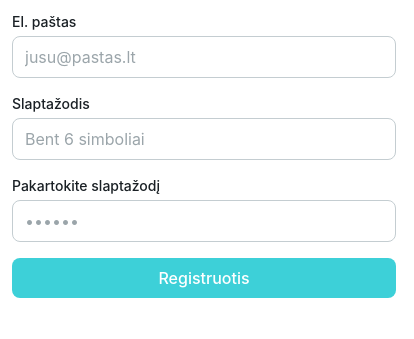
Test: RegisterForm › shows validation error for short password
Step 1. Type "test@test.com" into the field labelled "El. paštas" → [204, 57], box x1=12 y1=36 x2=396 y2=78
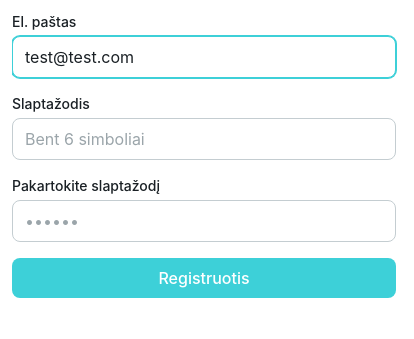
Step 2. Type "123" into the password field labelled "Slaptažodis" → [204, 139], box x1=12 y1=118 x2=396 y2=160
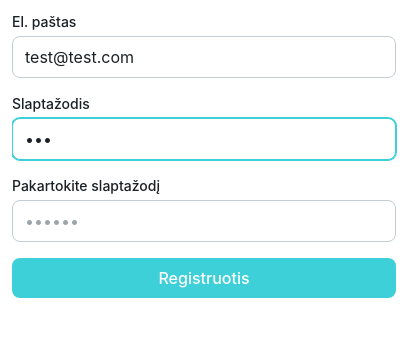
Step 3. Type "123" into the password field labelled "Pakartokite slaptažodį" → [204, 221], box x1=12 y1=200 x2=396 y2=242
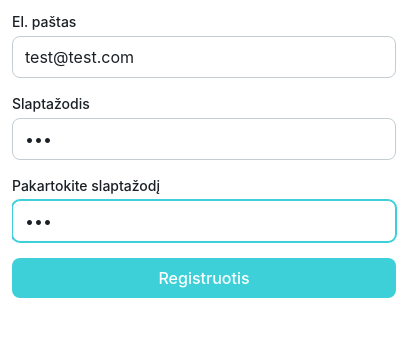
Step 4. Click the button "Registruotis" → [204, 278], box x1=12 y1=258 x2=396 y2=298
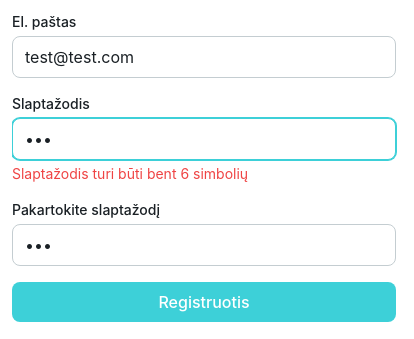
expect the text "Slaptažodis turi būti bent 6 simbolių" is shown: met, box x1=12 y1=165 x2=248 y2=182
